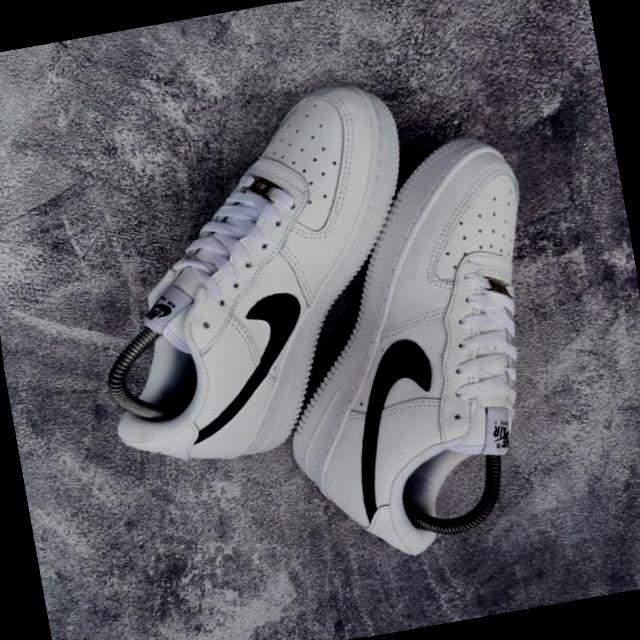nike_fake_airforce: (48, 59, 455, 493), (229, 117, 583, 582)
